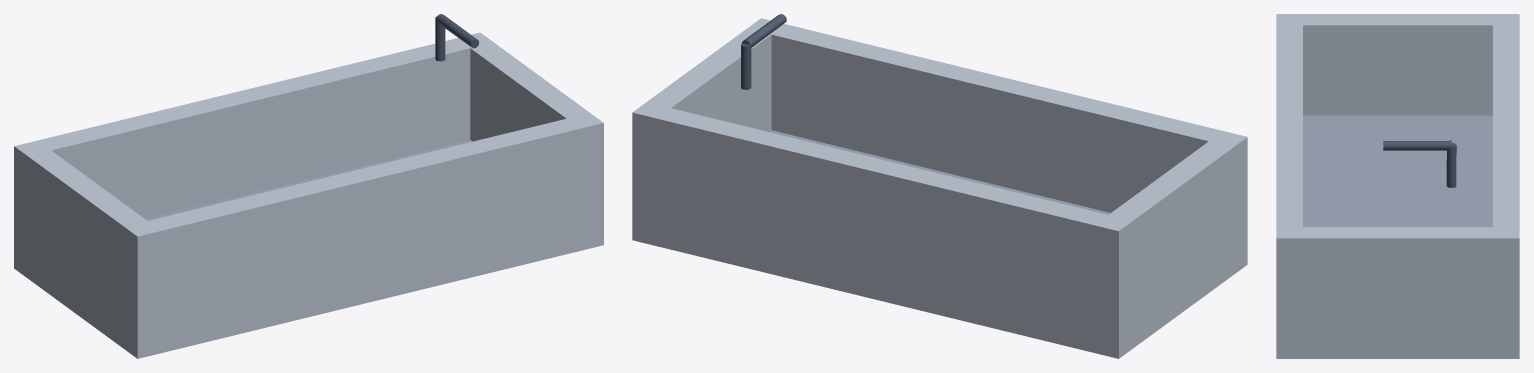
File: bathtub-lite.glb
The picture shows the model from 3 angles, left to right: view 1: azimuth 30°, elevation 25°; view 2: azimuth 150°, elevation 25°; view 3: azimuth 270°, elevation 25°; orthographic projection. The views are drawn at different scales.
Visible parts, largest first — view 1: bathtub; view 2: bathtub; view 3: bathtub.
Boxes of the visible parts, x1,y1,x2,y2 form: bathtub: (14,14,603,358); bathtub: (632,14,1247,358); bathtub: (1276,14,1519,358).
Bounding box in the file's own units: 1.7 × 0.6424 × 0.78.
